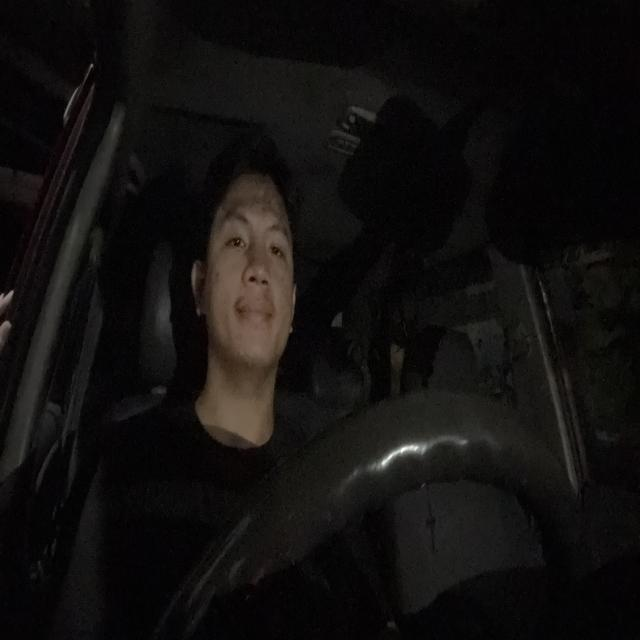open: (220, 208, 250, 265), (265, 222, 291, 266)
